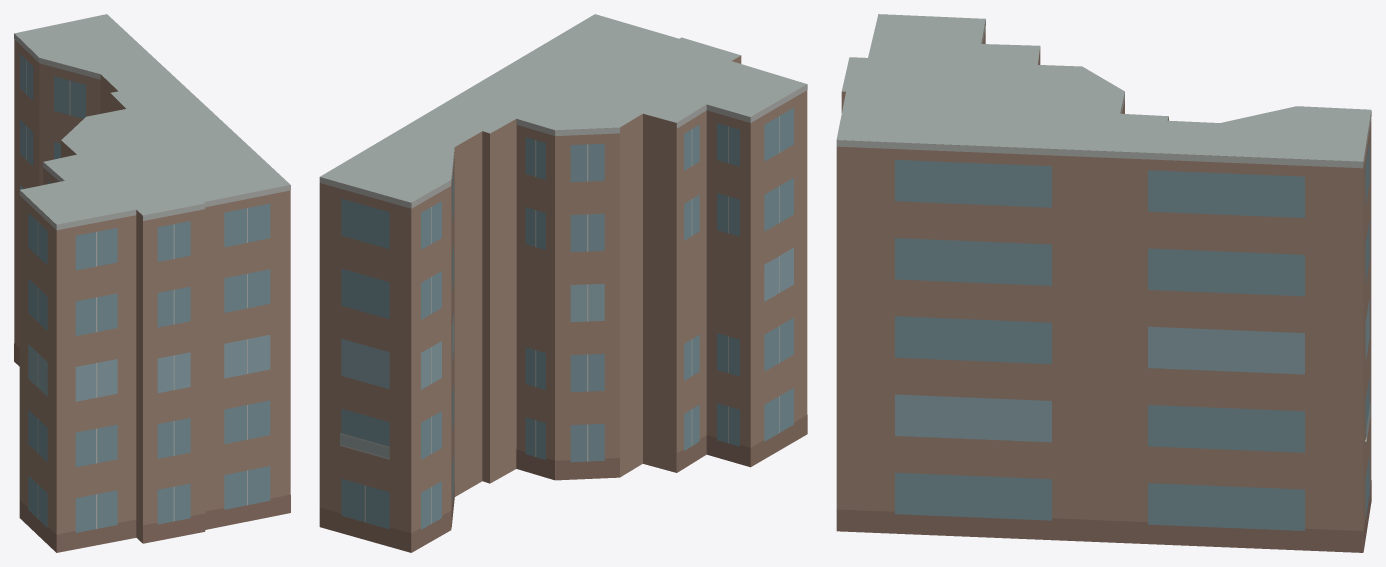
File: survey-upis-32679677.glb
3 views of the same model, side by side, from view 1: azimuth 30°, elevation 25°; view 2: azimuth 150°, elevation 25°; view 3: azimuth 270°, elevation 25° (orthographic). The views are drawn at different scales.
Visible parts, largest first — view 1: survey-upis-32679677.tmp; view 2: survey-upis-32679677.tmp; view 3: survey-upis-32679677.tmp.
Boxes of the visible parts, x1=… form: survey-upis-32679677.tmp: x1=14, y1=14, x2=290, y2=552; survey-upis-32679677.tmp: x1=319, y1=14, x2=807, y2=552; survey-upis-32679677.tmp: x1=836, y1=14, x2=1371, y2=552.
Bounding box in the file's own units: 11.75 × 14.5 × 17.98.
